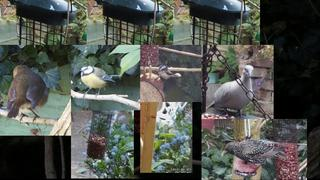blue tit: (78, 65, 120, 99)
collared dove: (206, 65, 254, 116)
long tailed tit: (156, 65, 182, 83)
robin: (6, 65, 51, 124)
starling: (222, 139, 287, 164)
